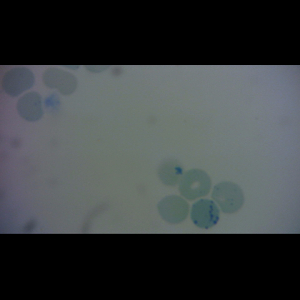aggregate reticulocyte: (189, 199, 221, 230)
erythrocyte: (41, 67, 80, 97), (178, 168, 213, 201), (1, 66, 37, 98), (156, 194, 191, 225), (157, 159, 186, 188)
punctate reticulocyte: (212, 181, 246, 214), (16, 90, 45, 123)
